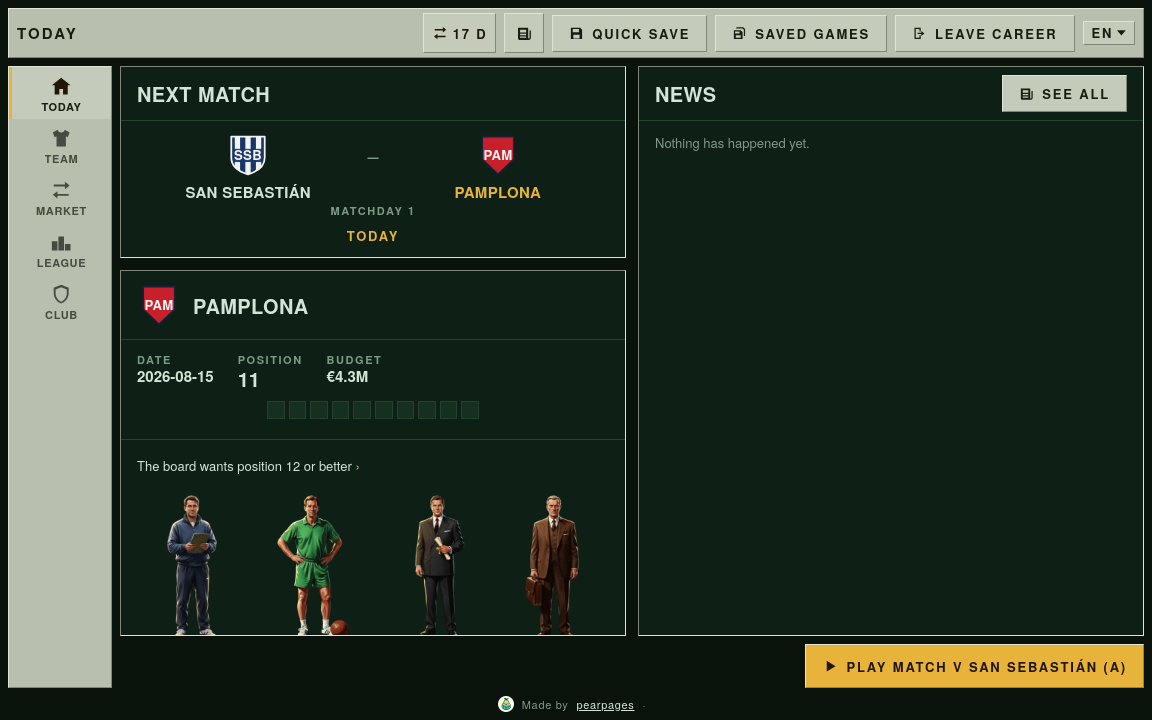
one card to the next › opens the compared man from the key
Click the button "Team" at [60, 145], box [9, 119, 111, 171]
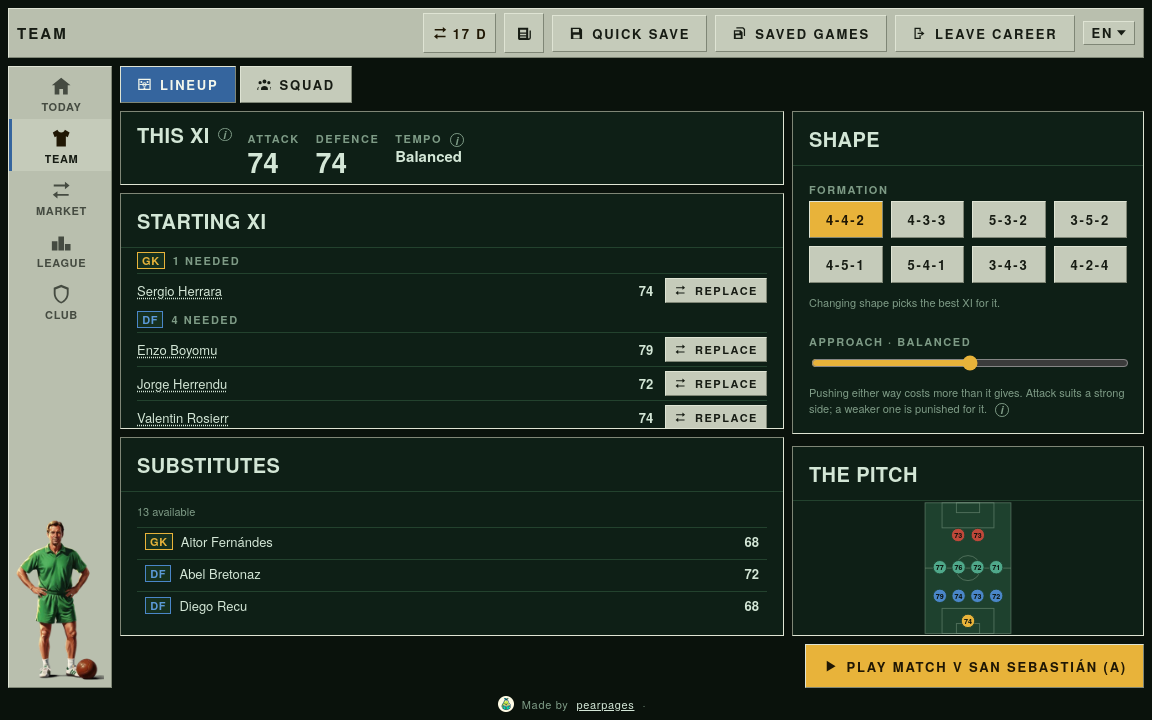
Click the button "Squad" at [296, 84], box [240, 66, 352, 103]
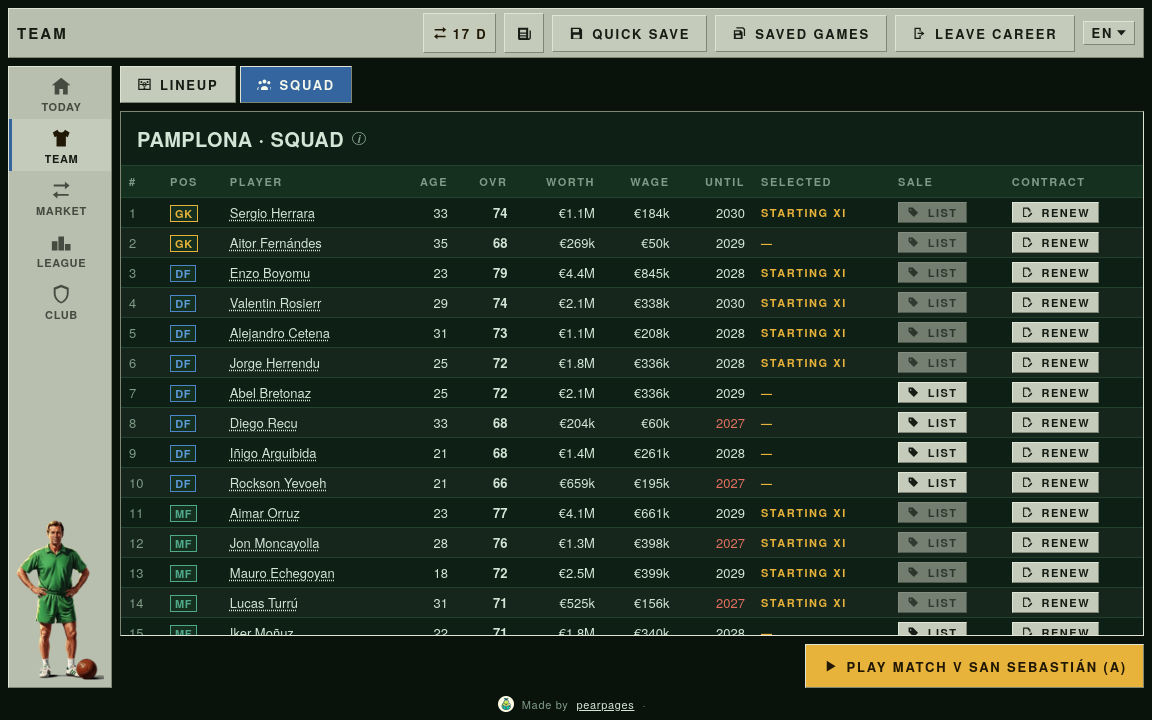
Click the button "Aimar Orruz" at [265, 512], box [230, 503, 300, 522]
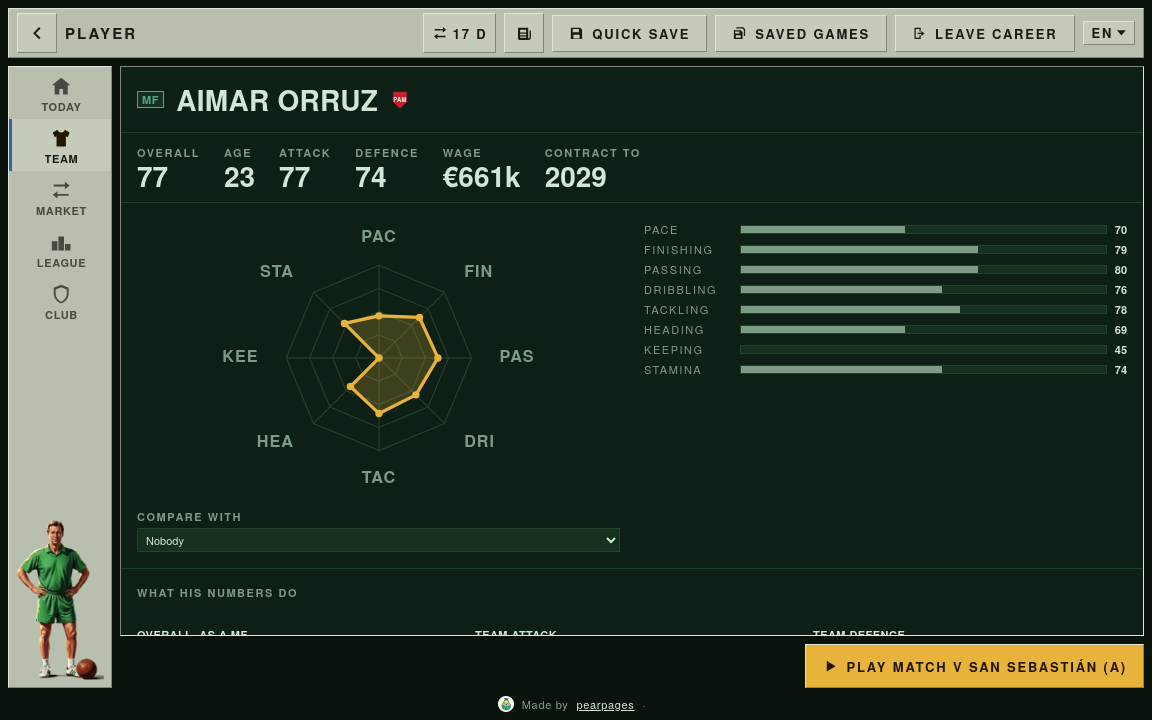
Select "Jon Moncayolla · MF 76" in the dropdown labelled "Compare with" at [378, 540], box [137, 528, 620, 552]
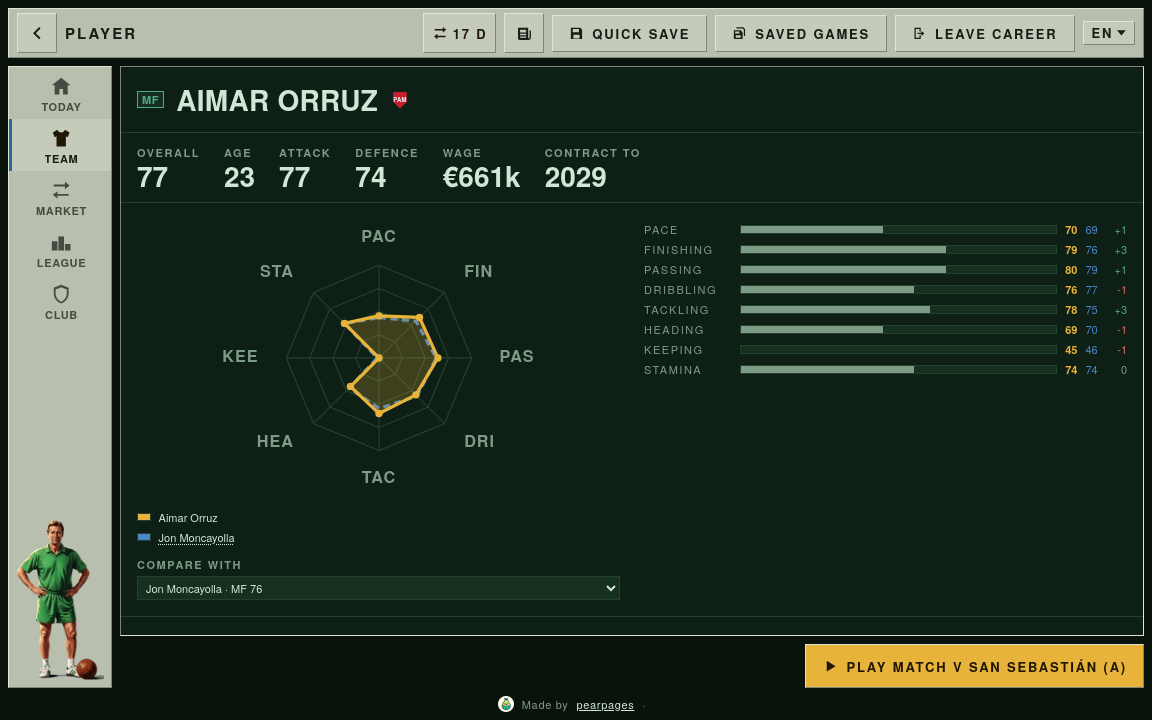
Click the button "Jon Moncayolla" at [197, 537], box [159, 529, 234, 545]
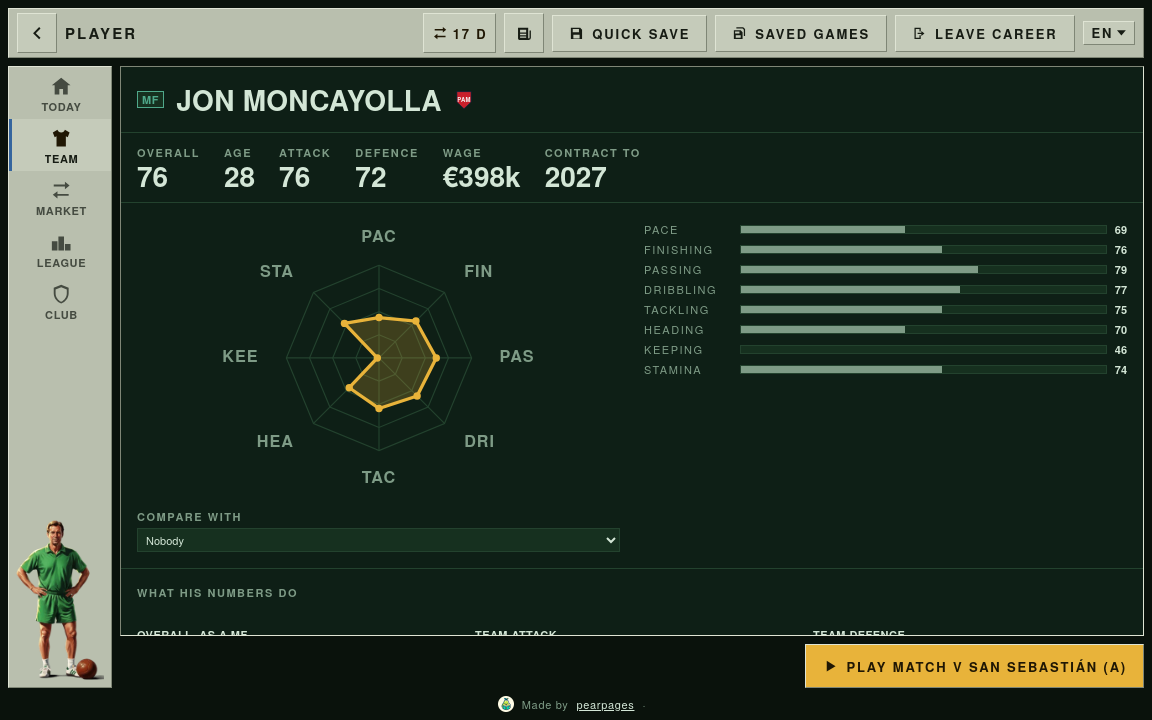
Check: the heading "Jon Moncayolla" is shown, box [176, 79, 442, 120]
